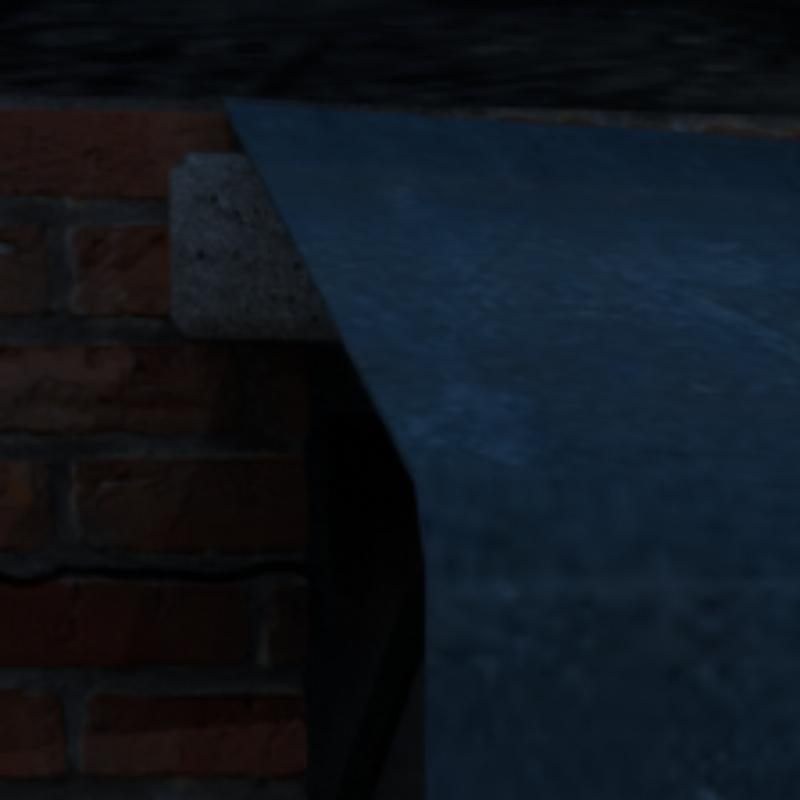pothole: (0, 561, 304, 586)
